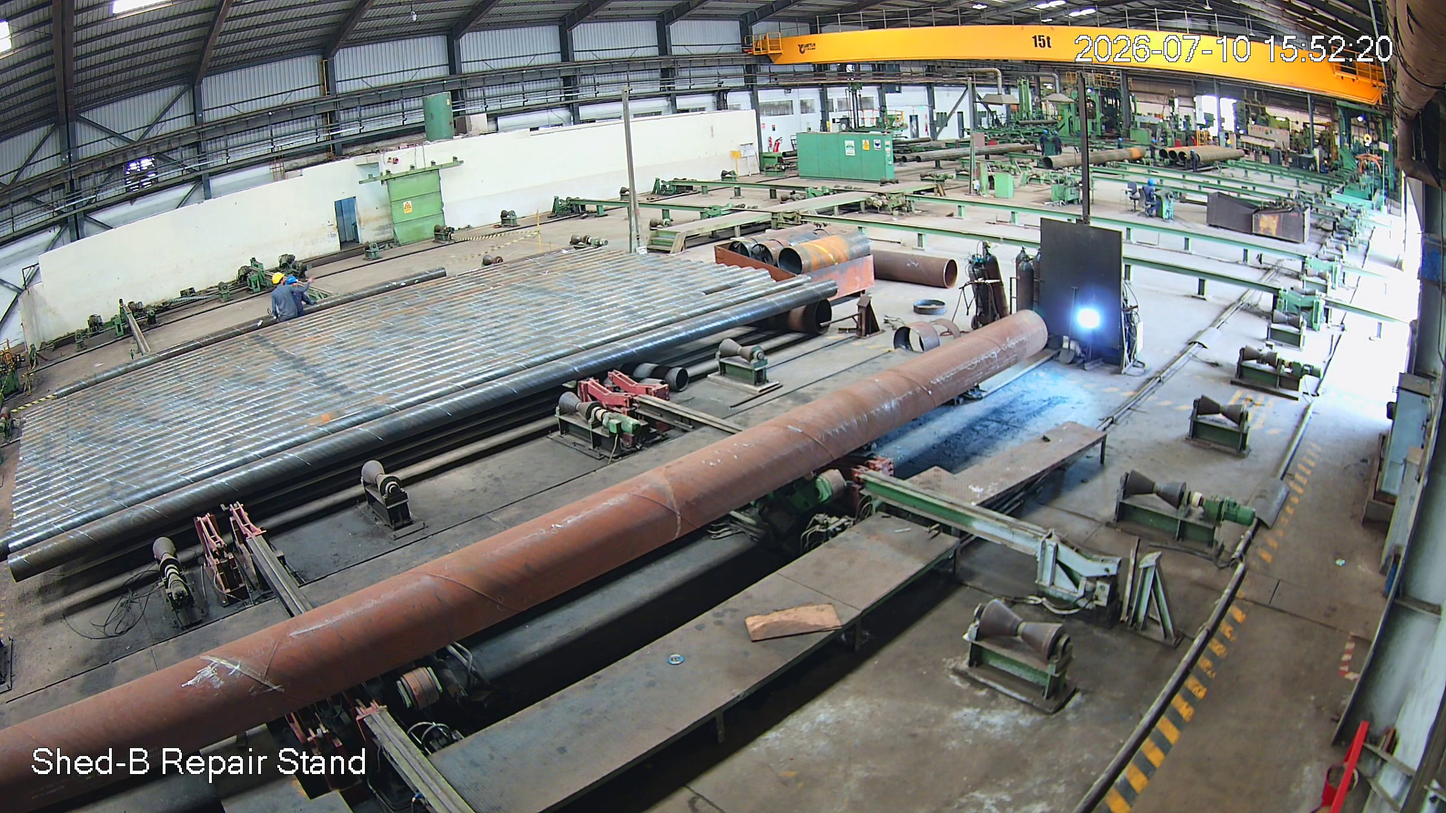Helmet: (271, 269, 295, 295)
Person: (269, 271, 307, 332)
